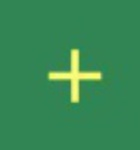ImgButton: (1, 1, 139, 149)
